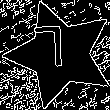L_S: (43, 29, 77, 80)
